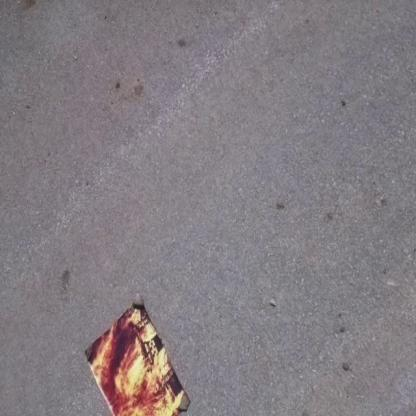fire-poster: (83, 292, 191, 415)
